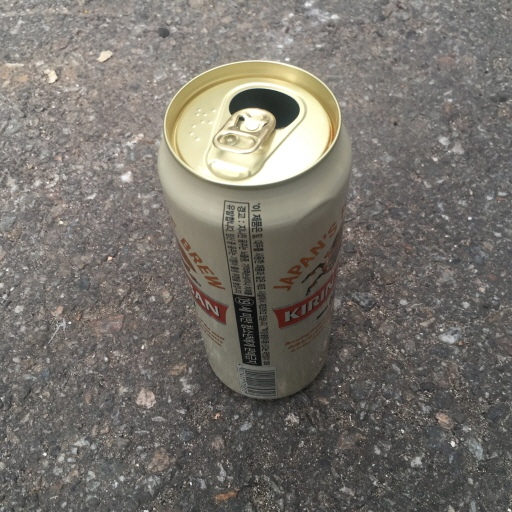Metal_0: (153, 57, 355, 404)
